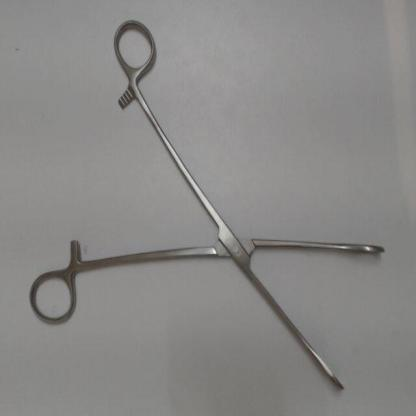Sponge Forceps: (24, 14, 390, 399)
